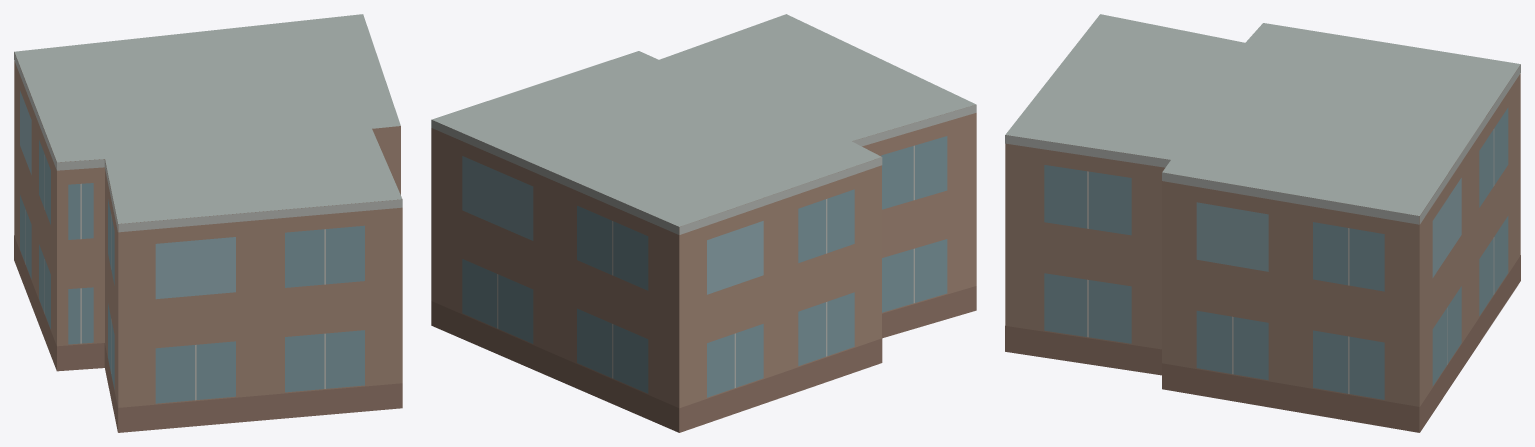
Rendered from survey-upis-32536801.glb.
3 views of the same model, side by side, from view 1: azimuth 30°, elevation 25°; view 2: azimuth 150°, elevation 25°; view 3: azimuth 270°, elevation 25° (orthographic). The views are drawn at different scales.
Parts seen in each view (by area): view 1: survey-upis-32536801.tmp; view 2: survey-upis-32536801.tmp; view 3: survey-upis-32536801.tmp.
Boxes of the visible parts, x1,y1,x2,y2 form: survey-upis-32536801.tmp: [14, 14, 402, 432]; survey-upis-32536801.tmp: [431, 14, 976, 432]; survey-upis-32536801.tmp: [1005, 14, 1520, 432].
Bounding box in the file's own units: 12.2 × 6.1 × 13.16.
